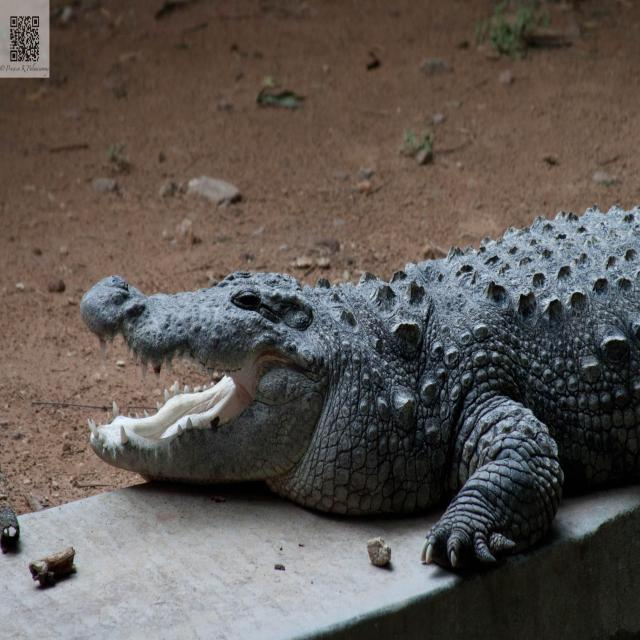crocodile: (83, 201, 640, 577)
